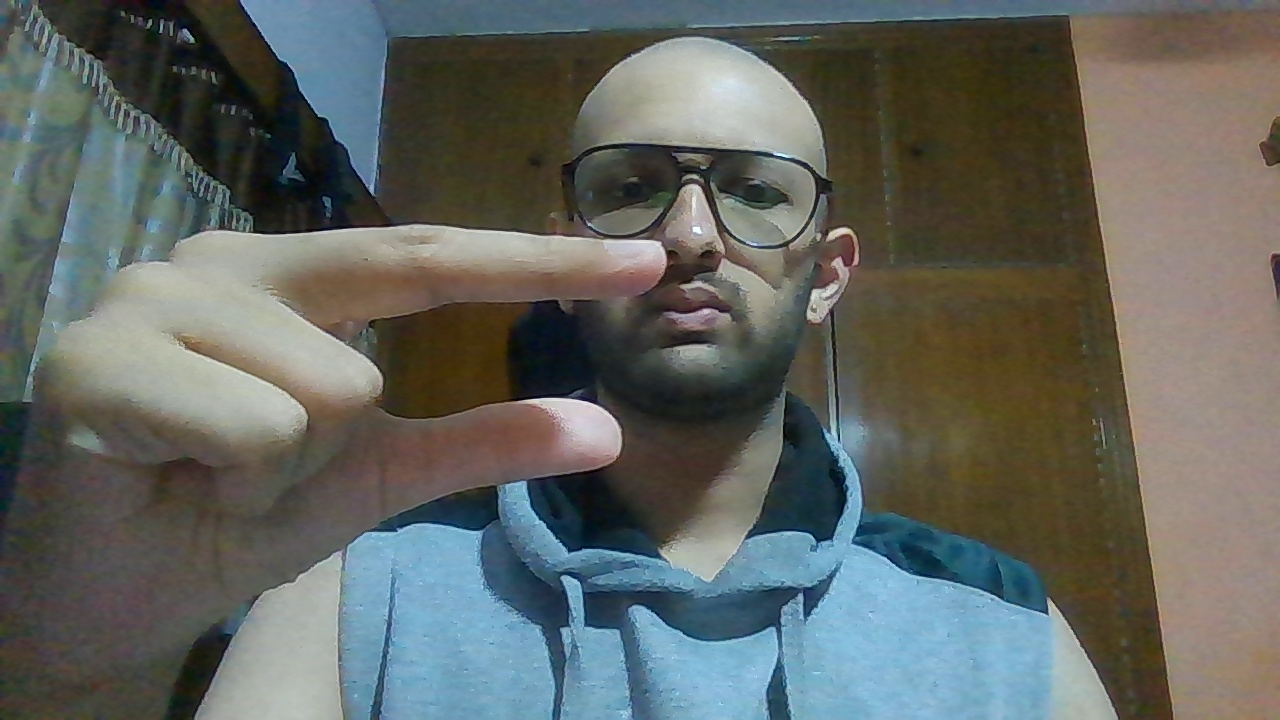No: (18, 214, 672, 612)
